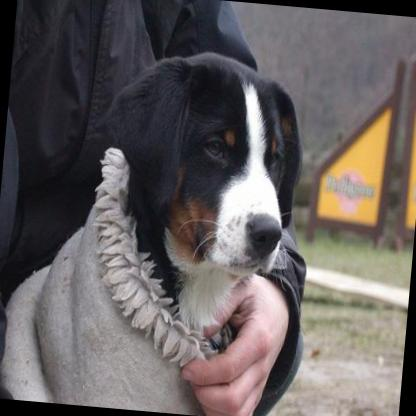Appenzeller: (0, 36, 310, 416)
